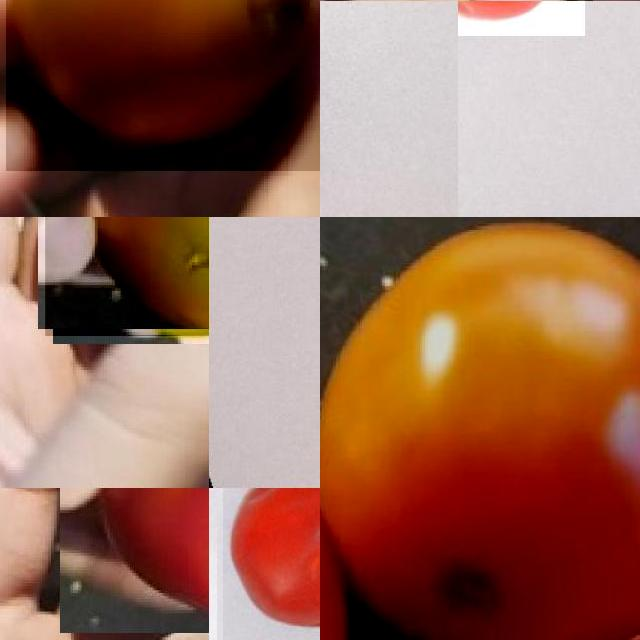0: (320, 217, 640, 640)
Fresh Tomato: (60, 488, 209, 633)
Rotten Tomato: (6, 0, 320, 171), (45, 217, 209, 336), (222, 488, 320, 640)
